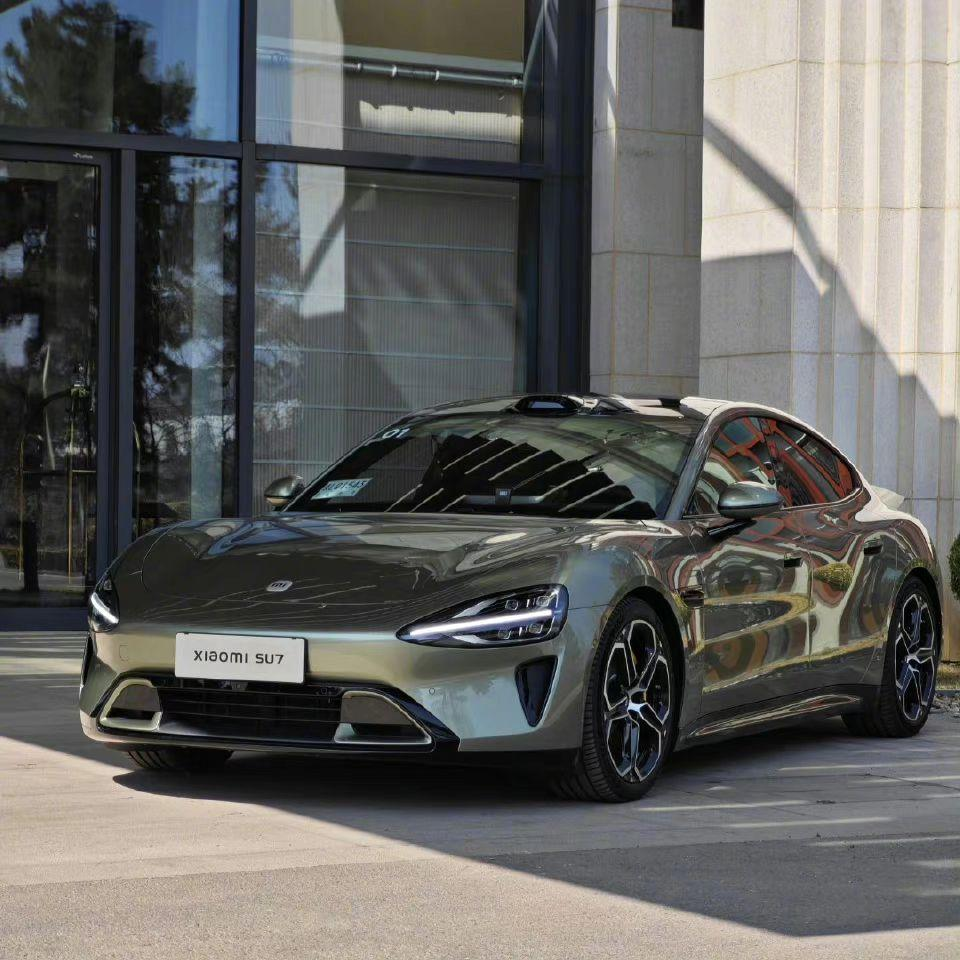su7: (65, 398, 952, 778)
